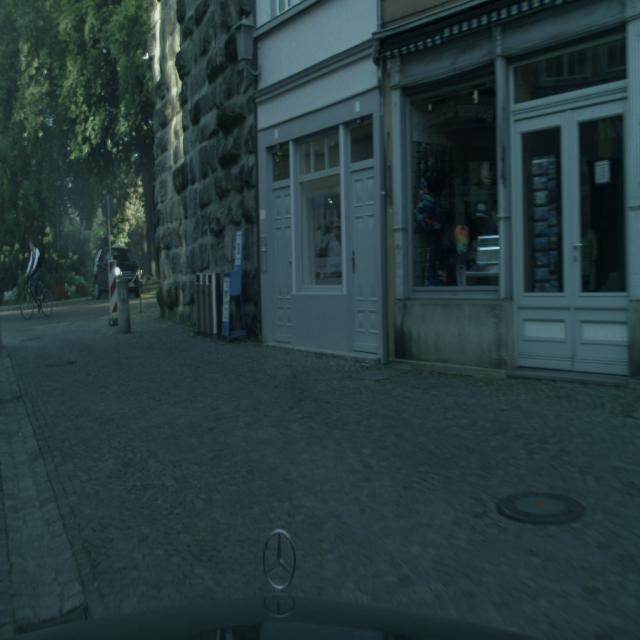bus: (93, 244, 143, 299)
car: (20, 237, 53, 319)
